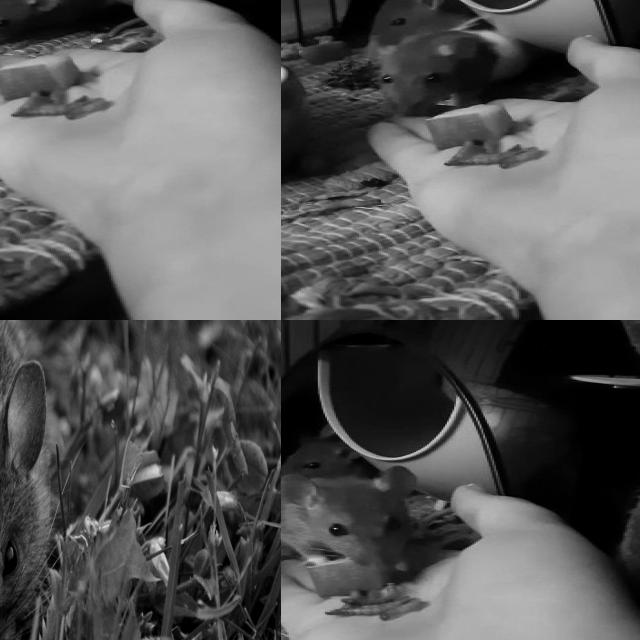rat: (0, 320, 50, 640), (281, 466, 420, 572), (378, 28, 539, 117), (354, 0, 481, 58), (0, 0, 136, 48)
